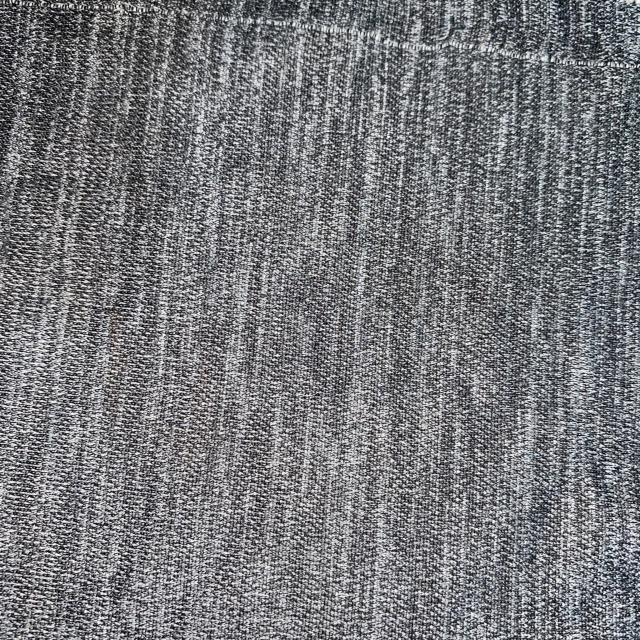Line: (0, 0, 640, 73)
